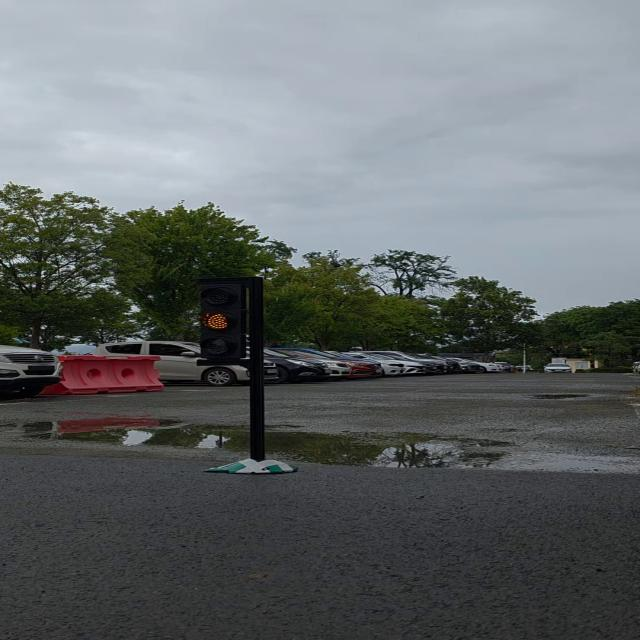yellow: (197, 273, 259, 366)
